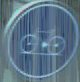bike lane: (5, 4, 74, 72)
